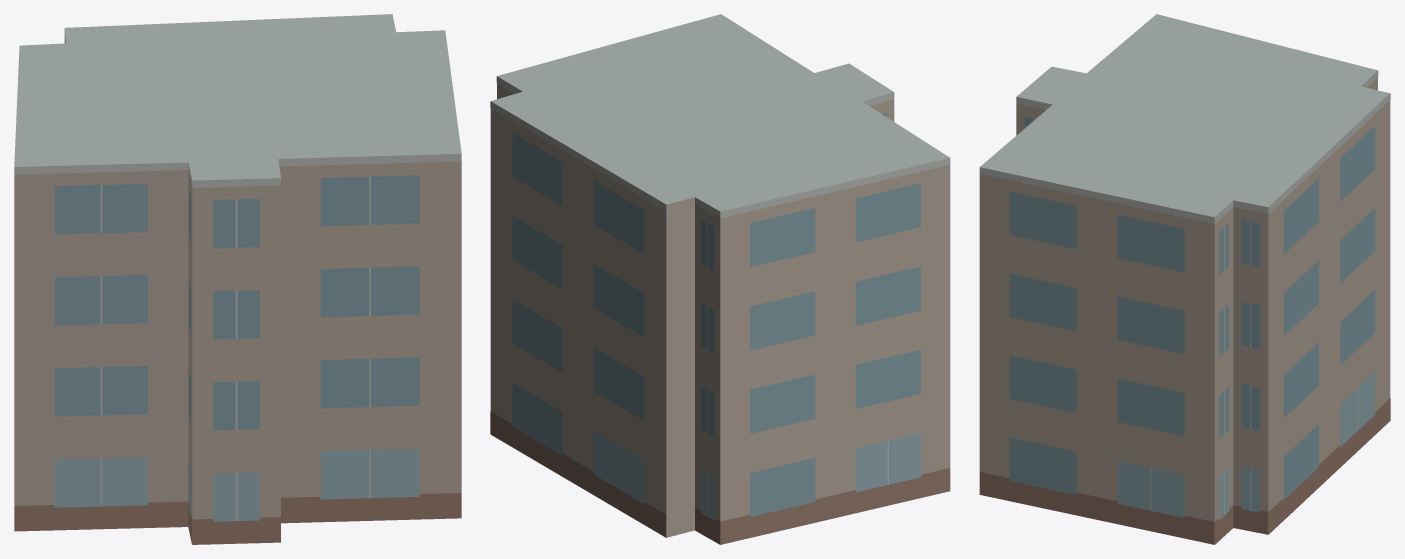
Rendered from survey-upis-32526313.glb.
3 views of the same model, side by side, from view 1: azimuth 30°, elevation 25°; view 2: azimuth 150°, elevation 25°; view 3: azimuth 270°, elevation 25° (orthographic). The views are drawn at different scales.
Parts seen in each view (by area): view 1: survey-upis-32526313.tmp; view 2: survey-upis-32526313.tmp; view 3: survey-upis-32526313.tmp.
Part boxes in pixels (bbox=[...]): survey-upis-32526313.tmp: bbox=[14, 14, 461, 544]; survey-upis-32526313.tmp: bbox=[490, 14, 950, 544]; survey-upis-32526313.tmp: bbox=[979, 14, 1390, 544].
Bounding box in the file's own units: 15.72 × 11.8 × 13.42.
